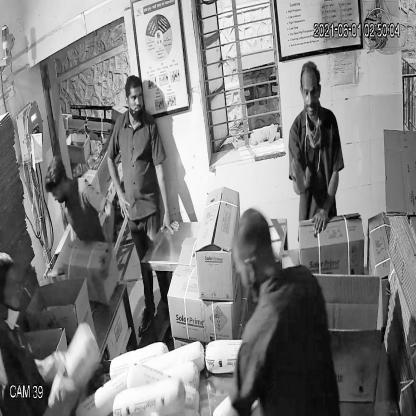no_goggles: (296, 79, 324, 104), (122, 89, 147, 108)
